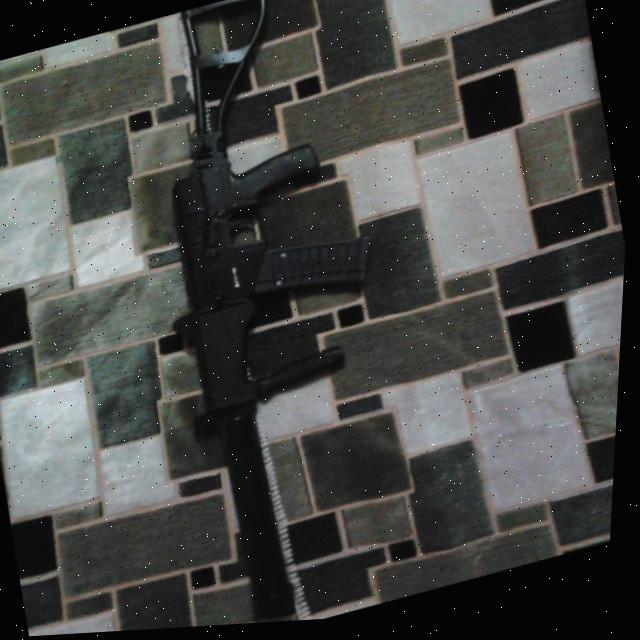firearm: (81, 0, 452, 635)
